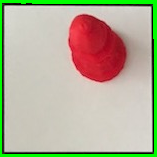Red Bishop: (63, 11, 129, 84)
